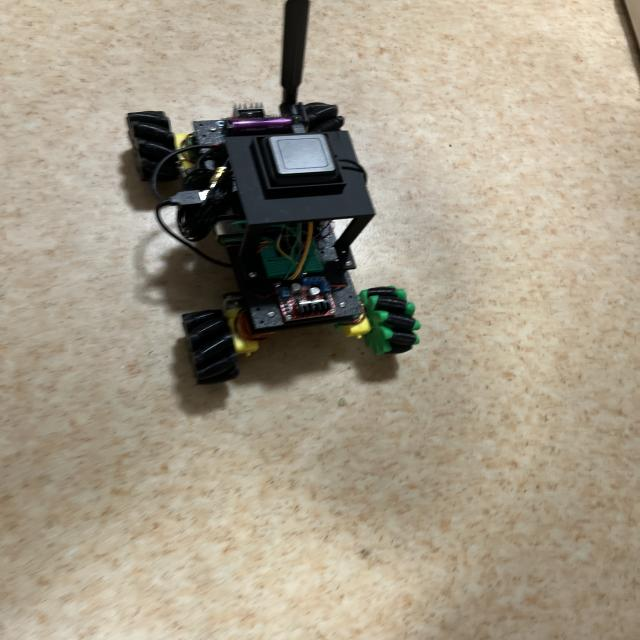robot: (127, 0, 420, 383)
